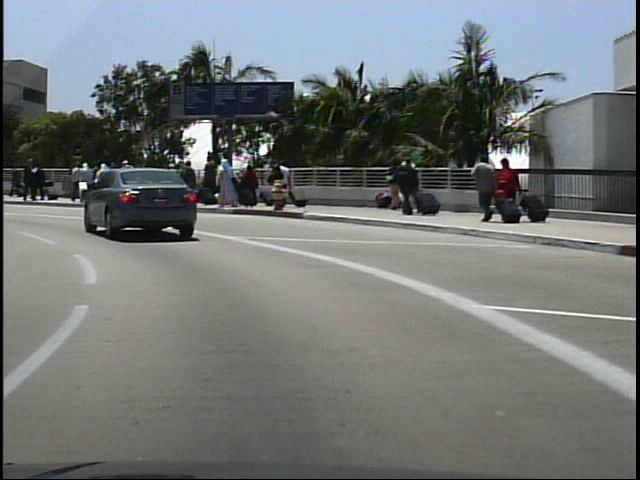person: (468, 152, 496, 223), (387, 156, 418, 217), (493, 156, 521, 222), (29, 159, 52, 209), (272, 157, 295, 206), (21, 157, 40, 202), (8, 164, 21, 201)
